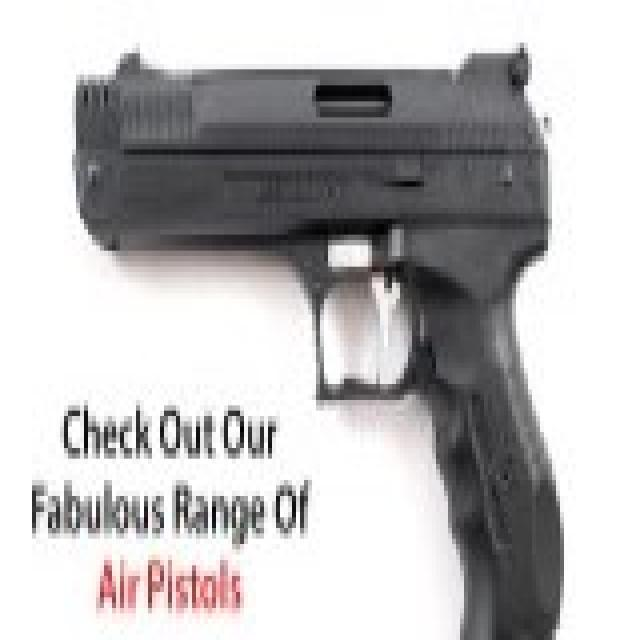Gun: (60, 32, 576, 640)
